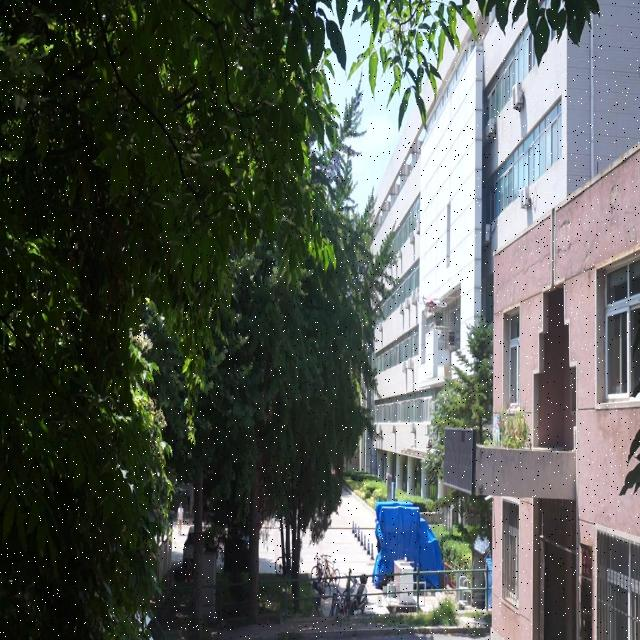UAV: (417, 294, 447, 315)
